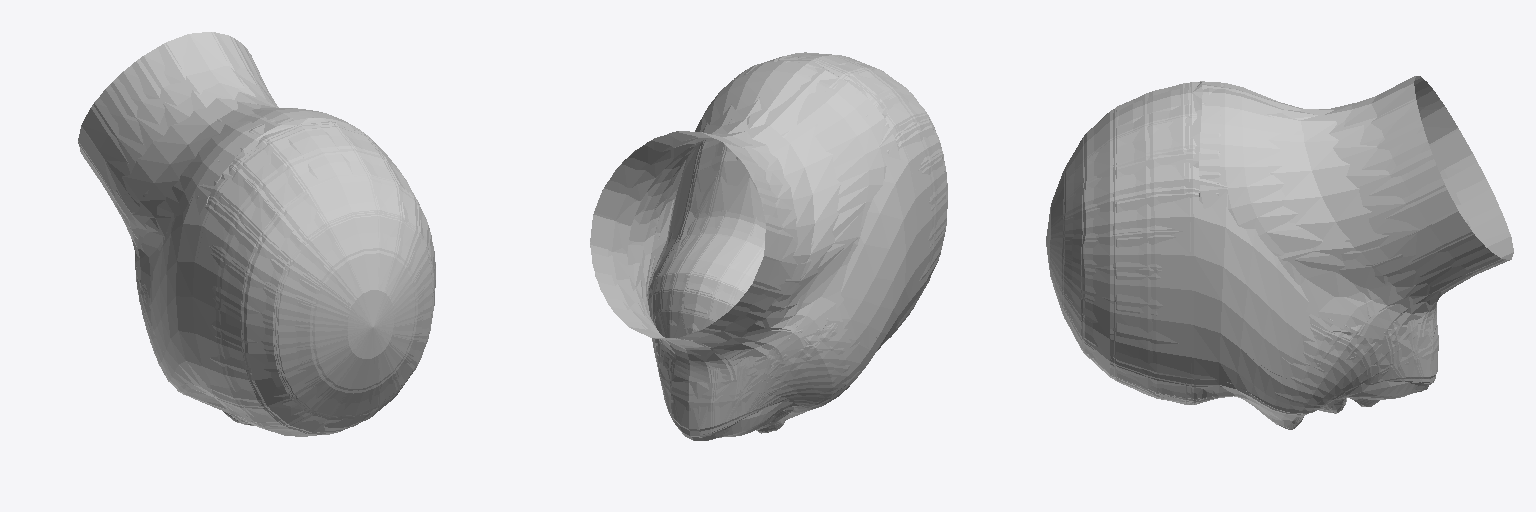
Rendered from HEAD3.obj.
The picture shows the model from 3 angles: view 1: azimuth 30°, elevation 25°; view 2: azimuth 150°, elevation 25°; view 3: azimuth 270°, elevation 25°; orthographic projection.
Size of the model in its own units: 8.44 by 12.79 by 15.68.